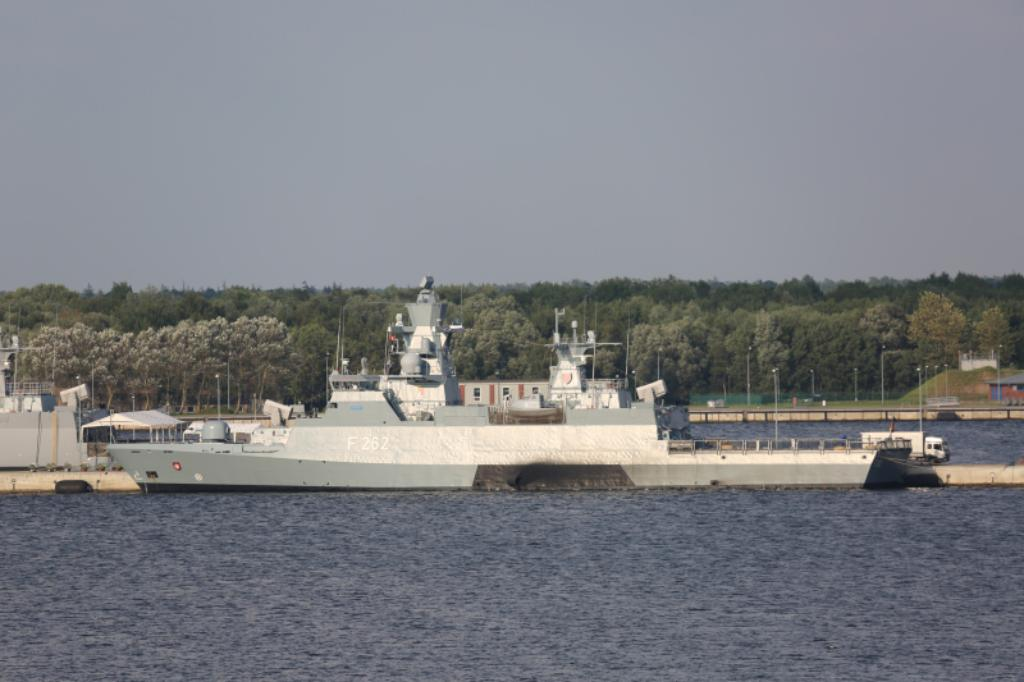Warship: (103, 269, 911, 491)
